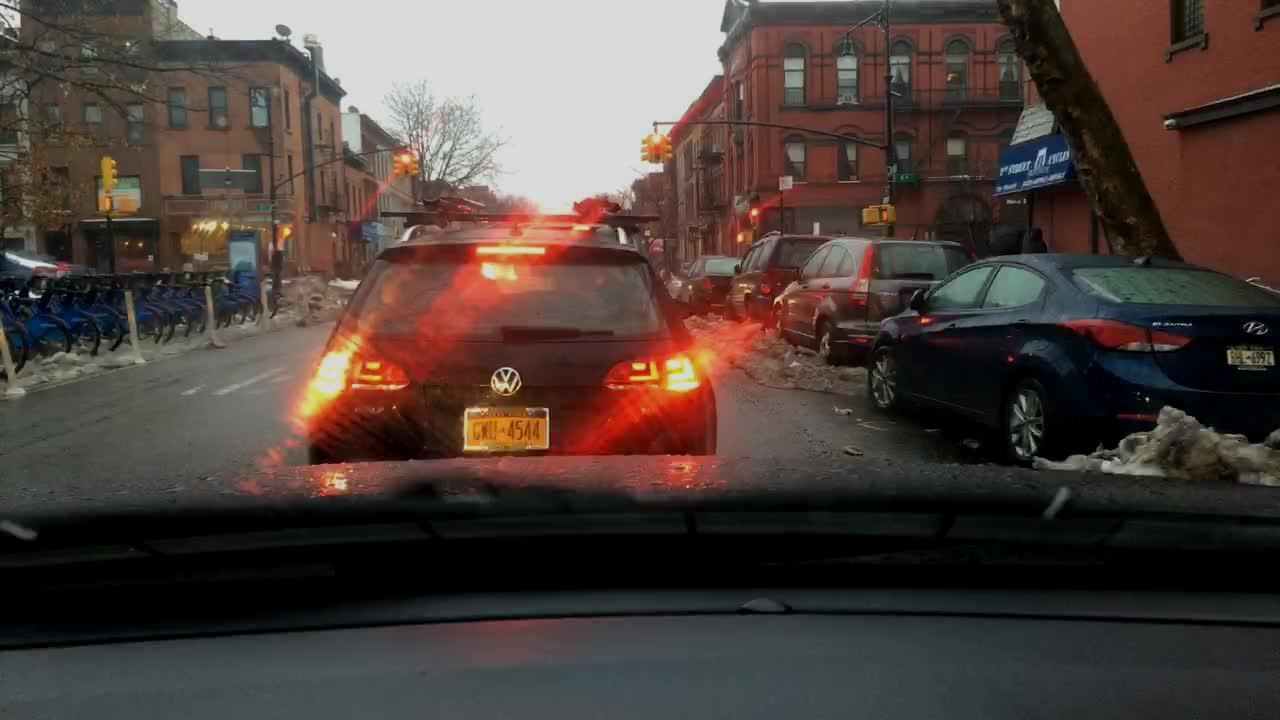Hyundai: (1238, 318, 1272, 342)
Volkswagen: (483, 356, 540, 407)
